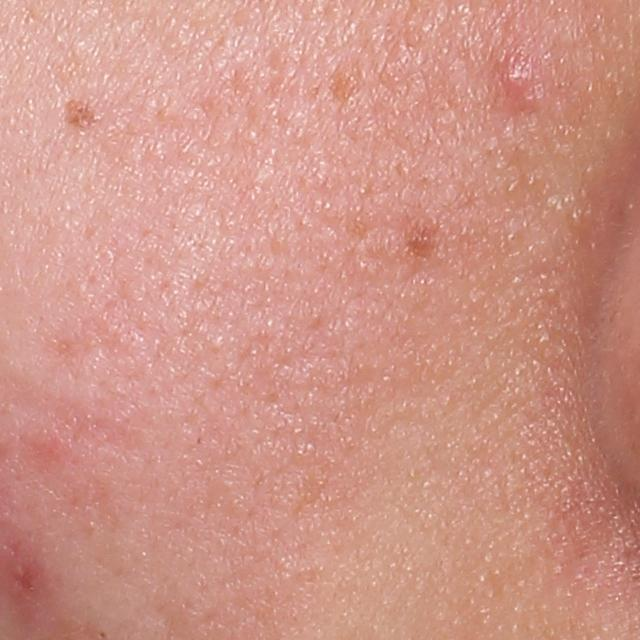melasma: (398, 210, 446, 263), (327, 51, 361, 104), (59, 97, 100, 133)
papule: (493, 51, 547, 108)
